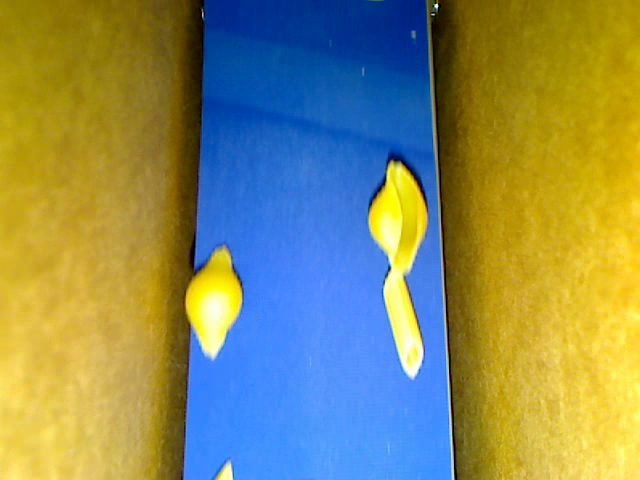penne: (382, 265, 423, 379)
shell: (184, 244, 243, 360), (368, 160, 428, 273)
